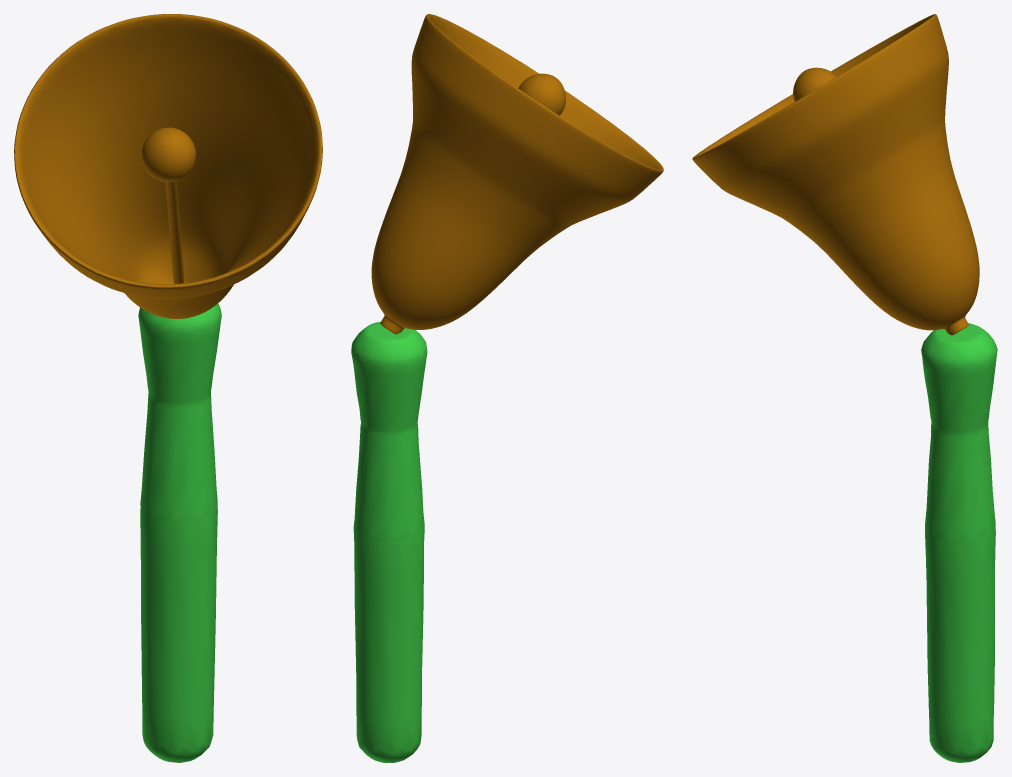
3 views of the same model, side by side, from view 1: azimuth 30°, elevation 25°; view 2: azimuth 150°, elevation 25°; view 3: azimuth 270°, elevation 25° (orthographic). The views are drawn at different scales.
Visible parts, largest first — view 1: ChristmasBell, 331; view 2: ChristmasBell, 331; view 3: ChristmasBell, 331.
Boxes of the visible parts, x1,y1,x2,y2 form: ChristmasBell: [14, 14, 322, 318]; 331: [138, 303, 221, 762]; ChristmasBell: [371, 14, 663, 334]; 331: [351, 322, 427, 762]; ChristmasBell: [692, 14, 979, 335]; 331: [921, 323, 997, 762].
Bounding box in the file's own units: 20.1 × 22.61 × 57.87.
